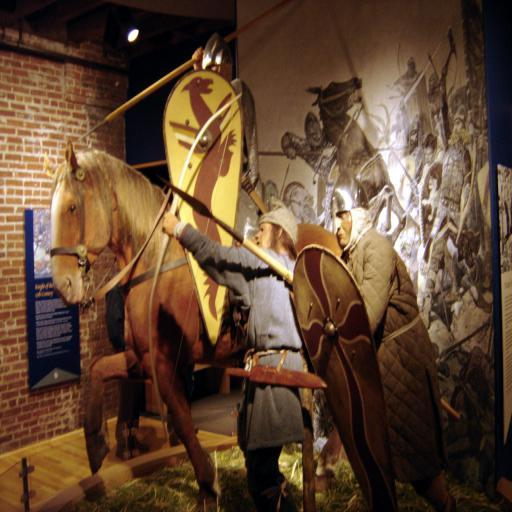horse: (48, 134, 348, 512)
